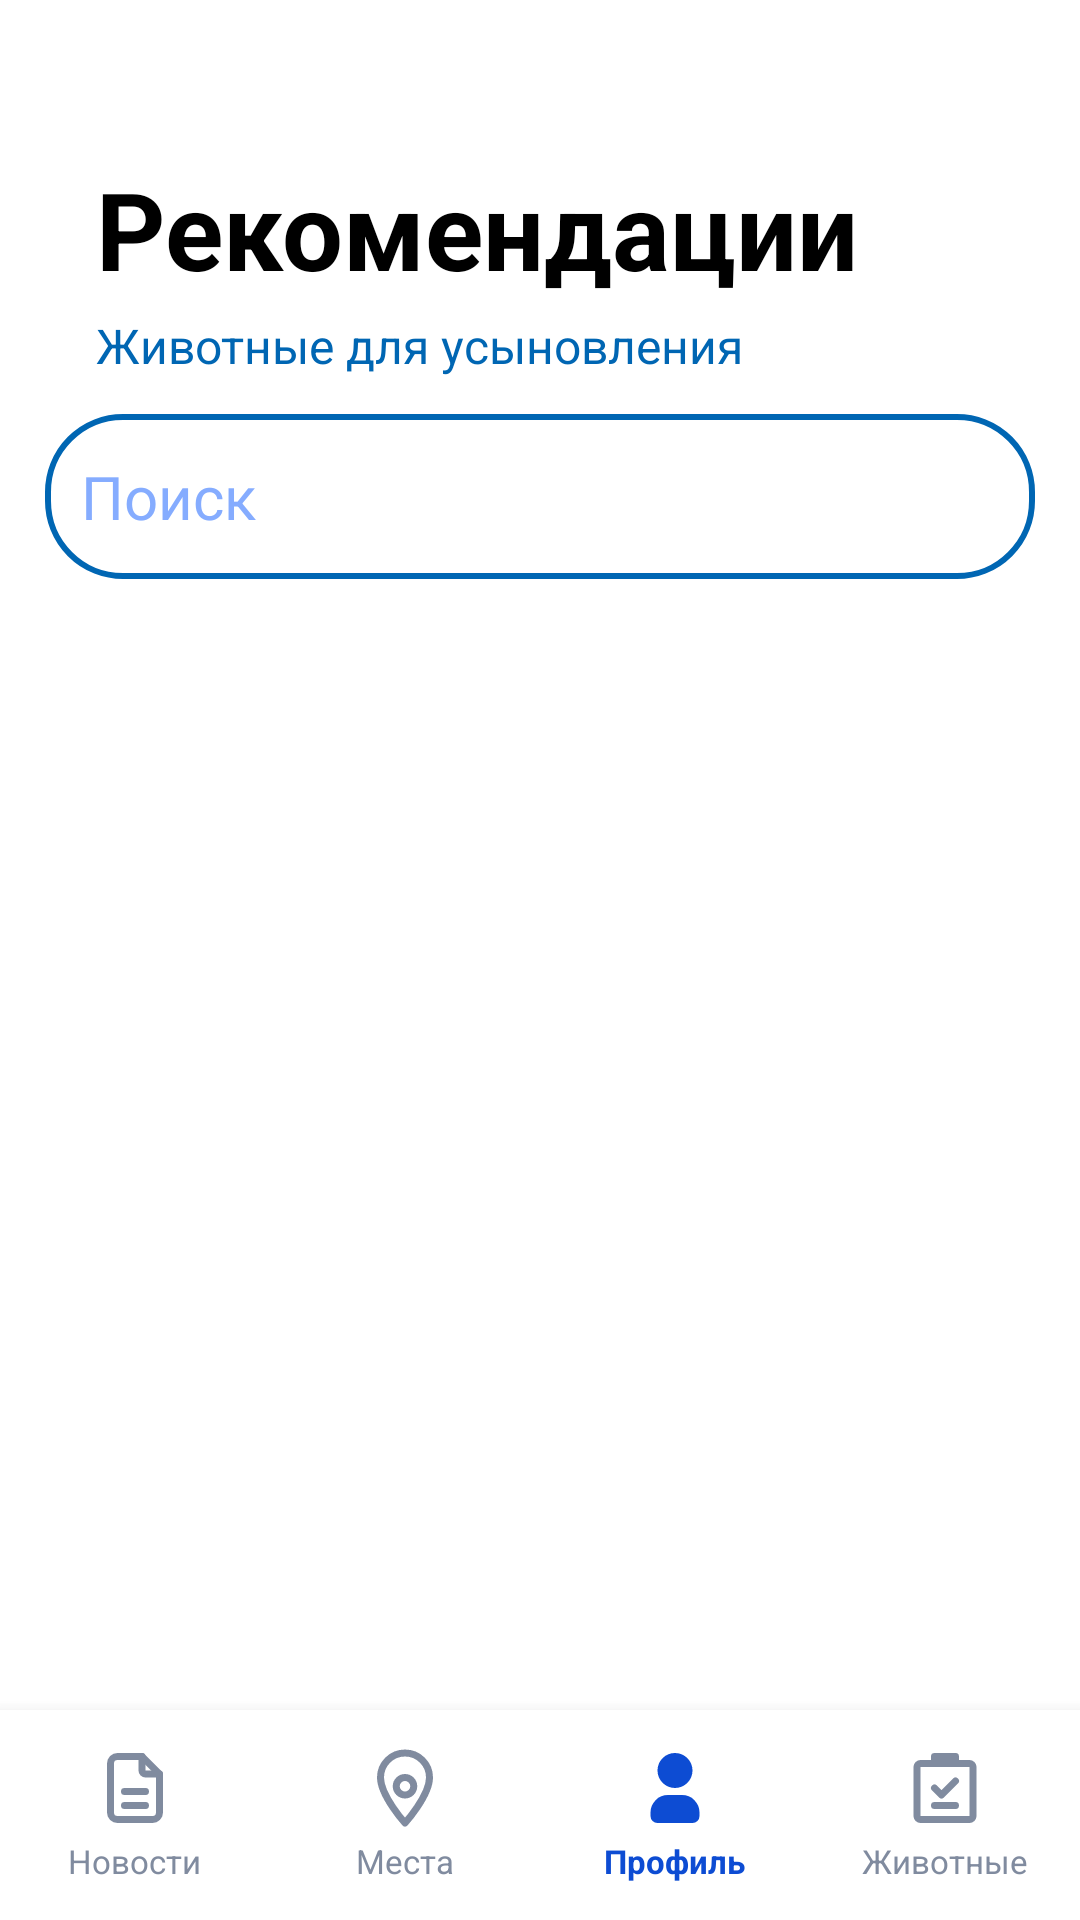

Icon bounding boxes for this 1080×1920 phone screenshot, format (x1, y1, x2, y2):
survey: (913, 1753, 977, 1823)
